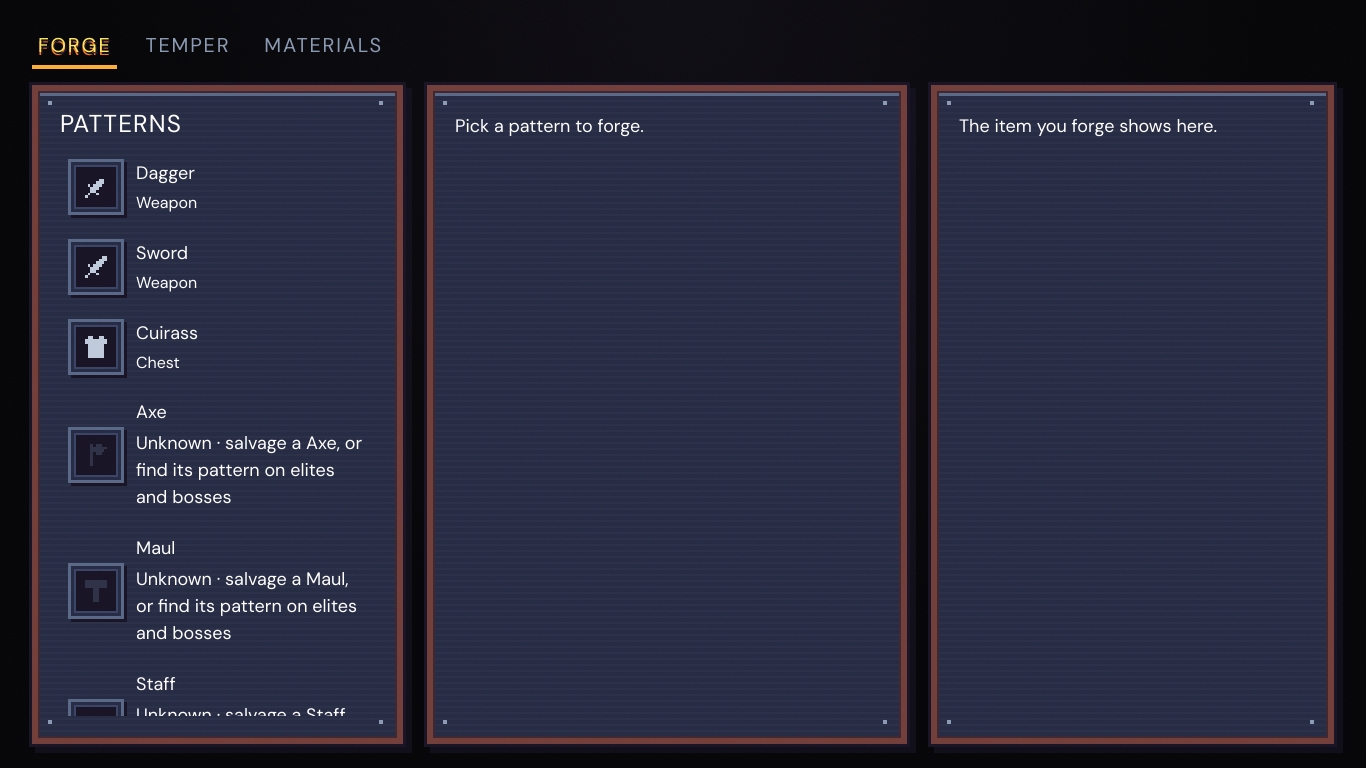
Test: ForgeTab › opens on the Forge bench; Temper lists what you wear first, then the bag, filtered by kind
Expected: the element with test id "pattern-list" is shown, [32,85,403,744]
Click the tab with test id "bench-temper". click: point(188, 46)
box: [140,24,236,69]
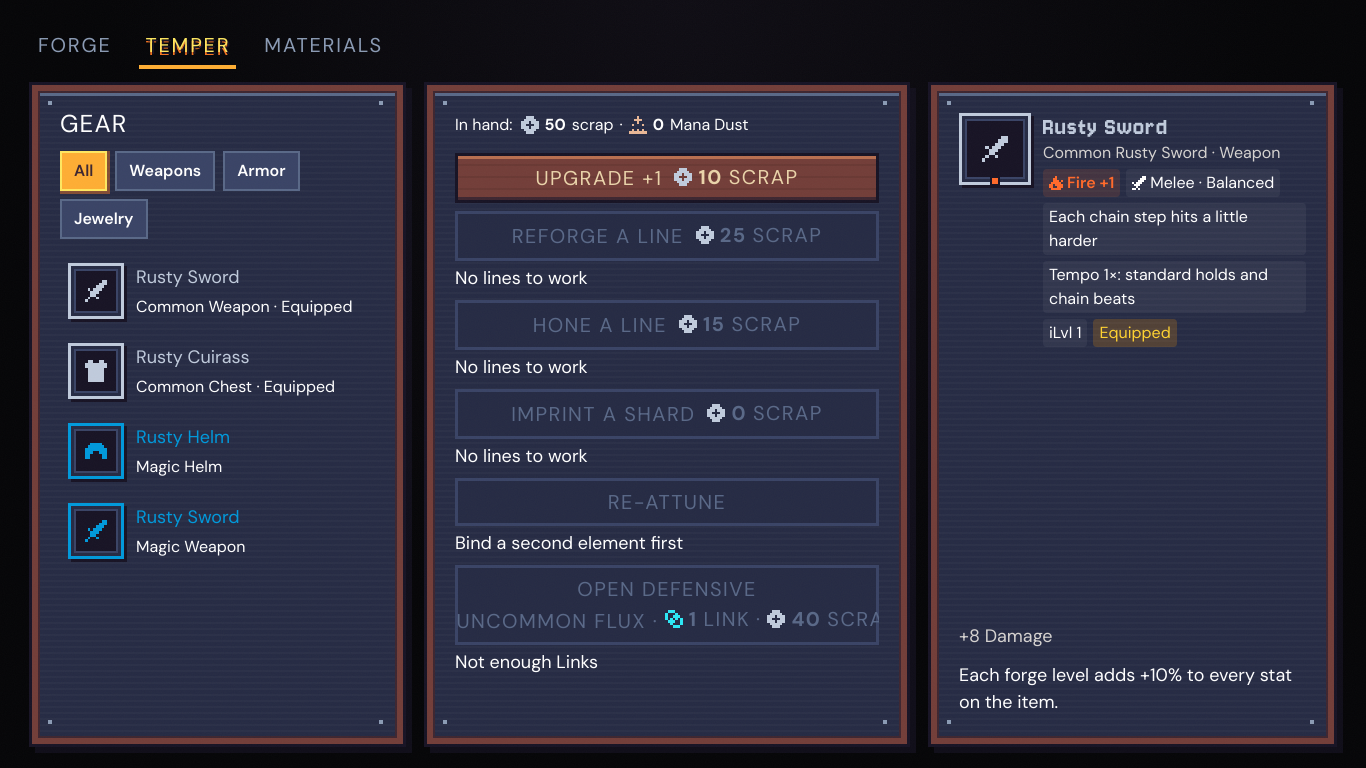
Expected: the element with test id "pattern-list" is gone
Expected: the number of buttons with test id "temper-row" is 4, [60,255,375,327]; [60,335,375,407]; [60,415,375,487]; [60,495,375,567]
Click the button with test id "gear-filter-armor". click: point(261, 171)
box: [223,151,300,191]
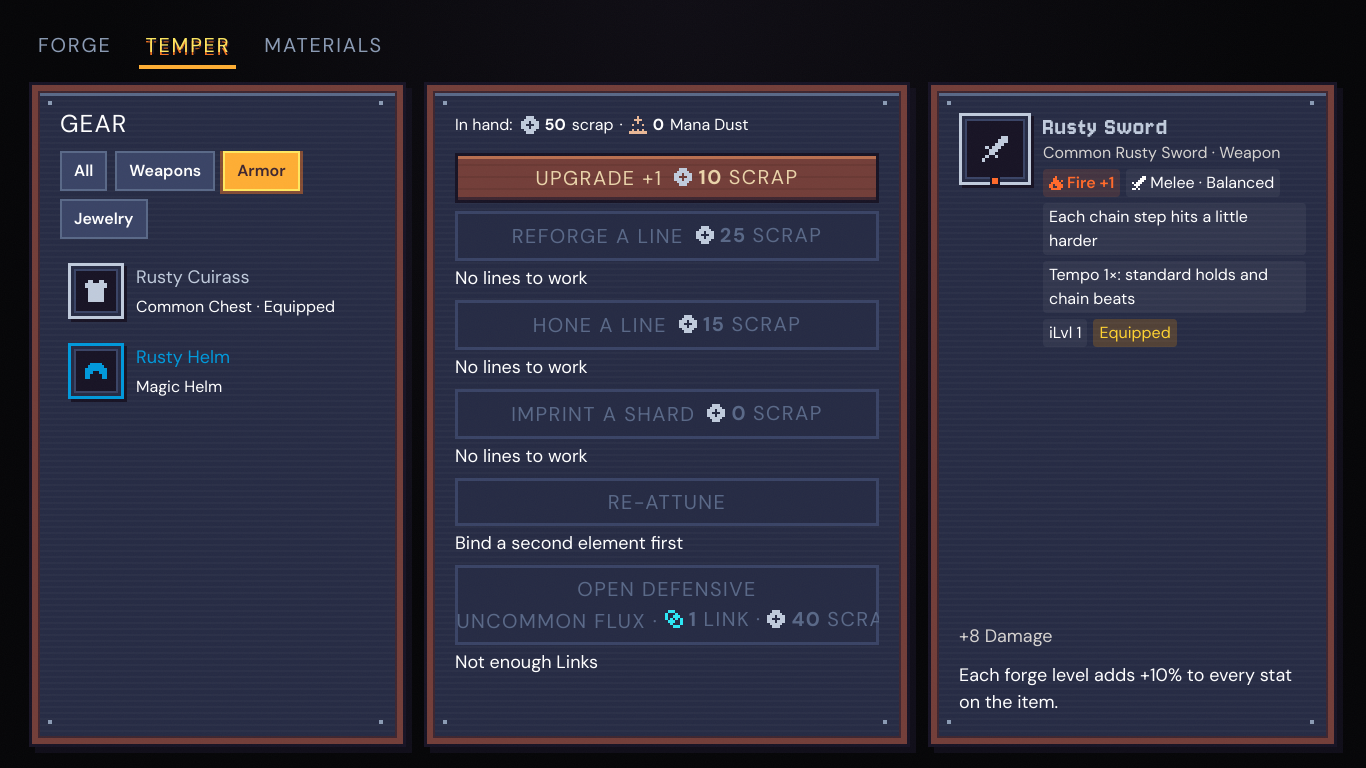
Expected: the button with test id "temper-row" shows "Magic Helm"
Click the button with test id "temper-row" showing "Rusty Helm Magic Helm". click: point(218, 371)
box: [60,335,375,407]
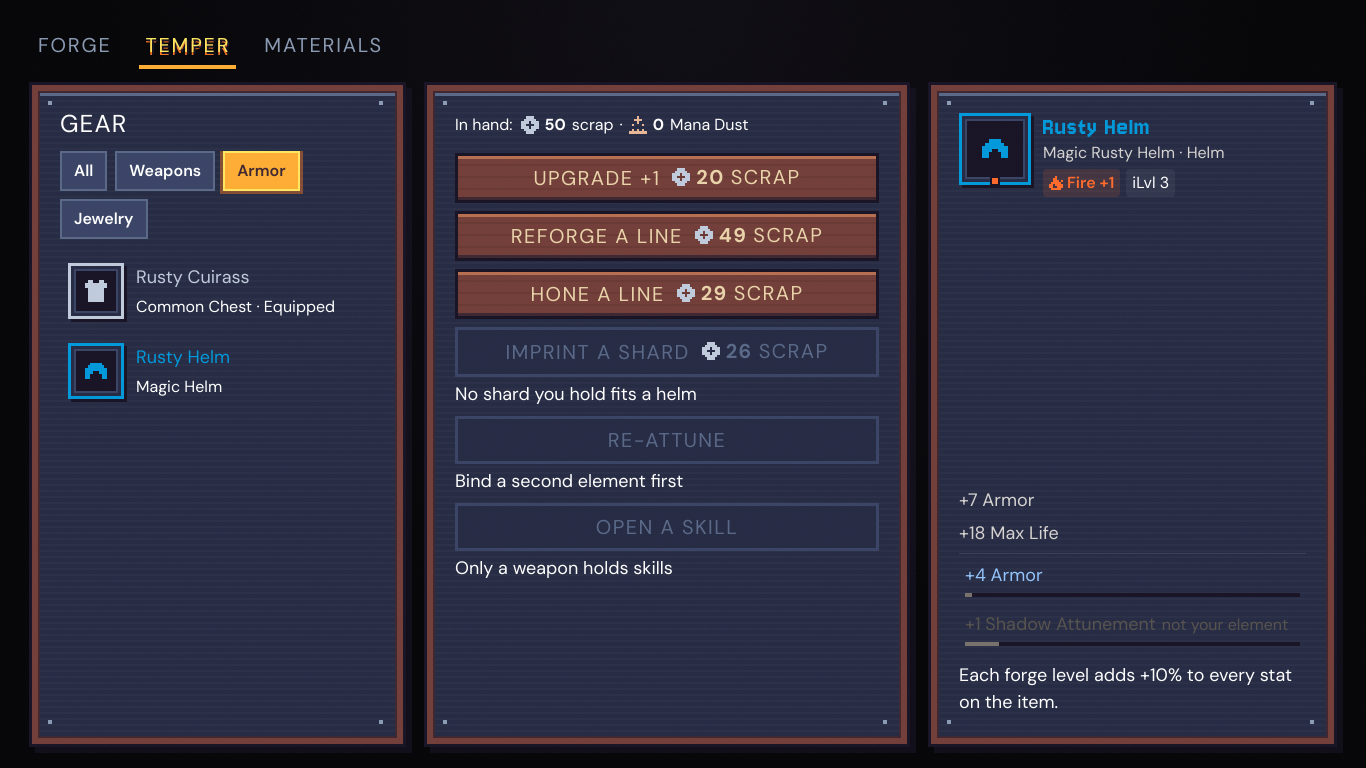
Note: Materials: refining, the shard bench and the runes, on a bench of their own.
Click the tab with test id "bench-materials". click: point(324, 46)
box: [258,24,389,69]
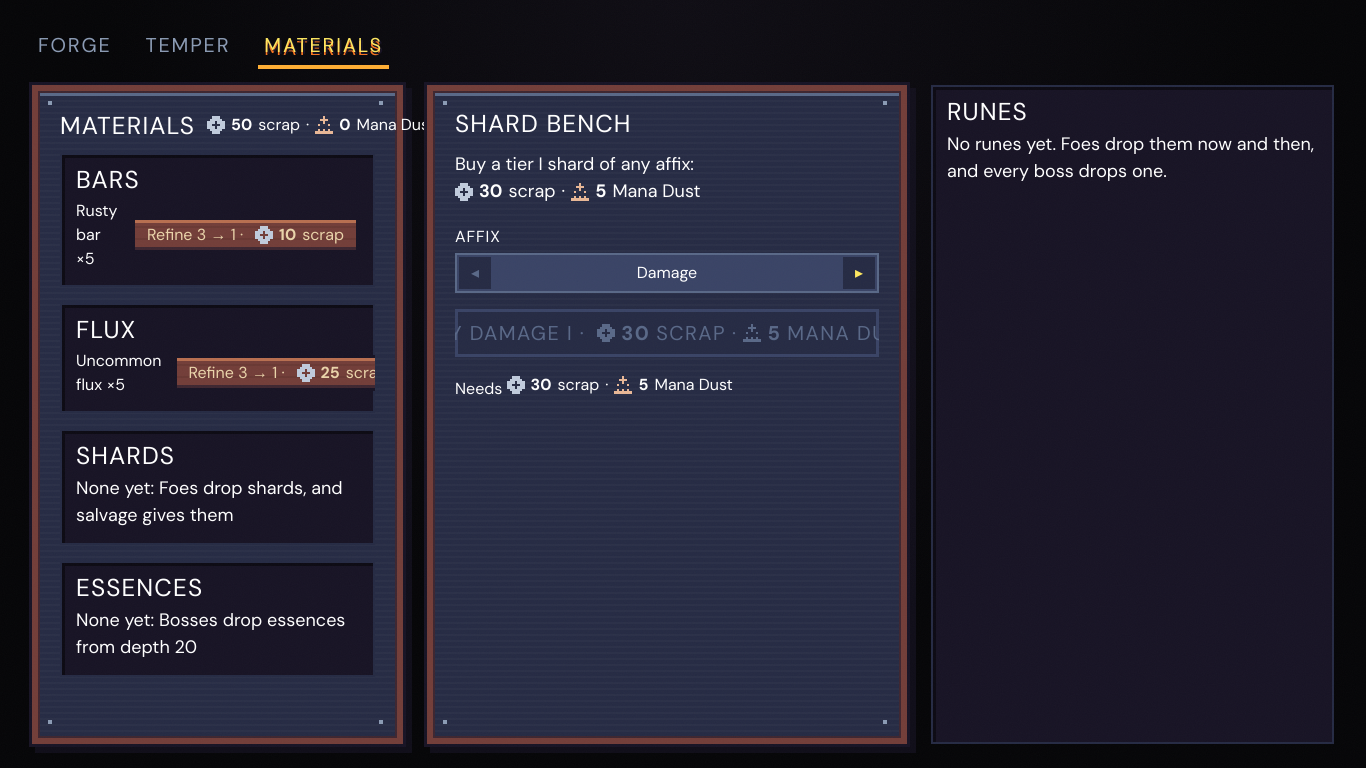
Expected: the element with test id "materials-pane" is shown, [32,85,403,744]
Expected: the element with test id "shard-bench" is shown, [427,85,907,744]
Expected: the element with test id "rune-pouch" is shown, [931,85,1334,744]
